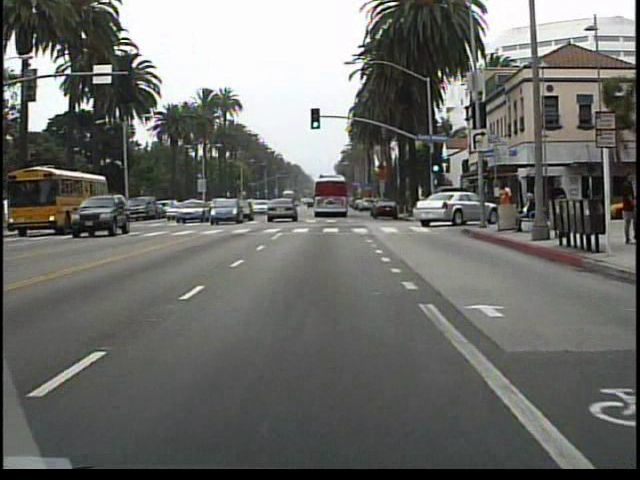person: (612, 169, 638, 244), (547, 177, 567, 231), (515, 186, 534, 235), (494, 180, 512, 230)
